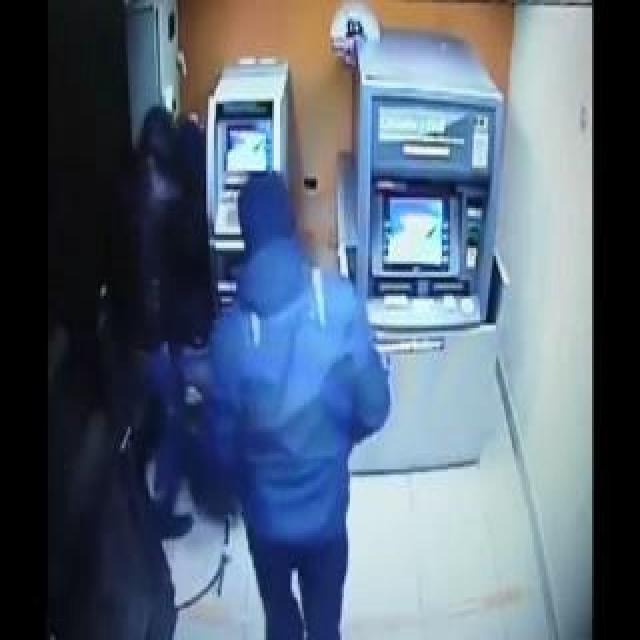thief: (222, 159, 348, 303), (120, 88, 176, 201)
